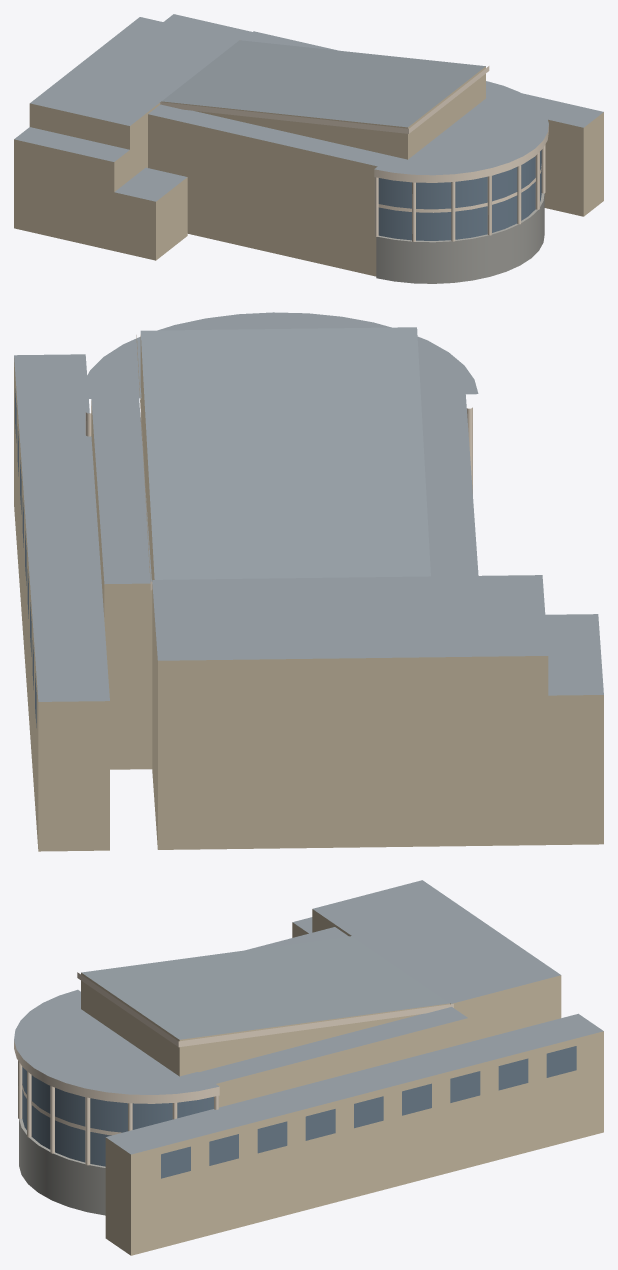
The picture shows the model from 3 angles, top to bottom: view 1: azimuth 30°, elevation 25°; view 2: azimuth 150°, elevation 25°; view 3: azimuth 270°, elevation 25°; orthographic projection. The views are drawn at different scales.
Visible parts, largest first — view 1: benaroya-hall; view 2: benaroya-hall; view 3: benaroya-hall.
Part boxes in pixels (bbox=[...]): benaroya-hall: bbox=[14, 14, 603, 283]; benaroya-hall: bbox=[14, 312, 603, 851]; benaroya-hall: bbox=[14, 880, 603, 1255].
Size of the model in its own units: 115 by 33.2 by 109.
